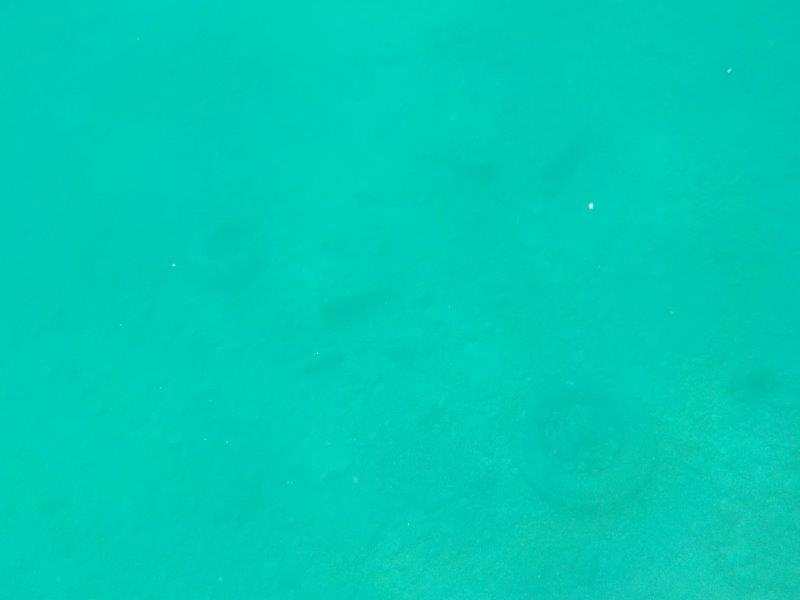bottle: (312, 277, 397, 323)
tire: (507, 368, 663, 514), (182, 211, 278, 288)
